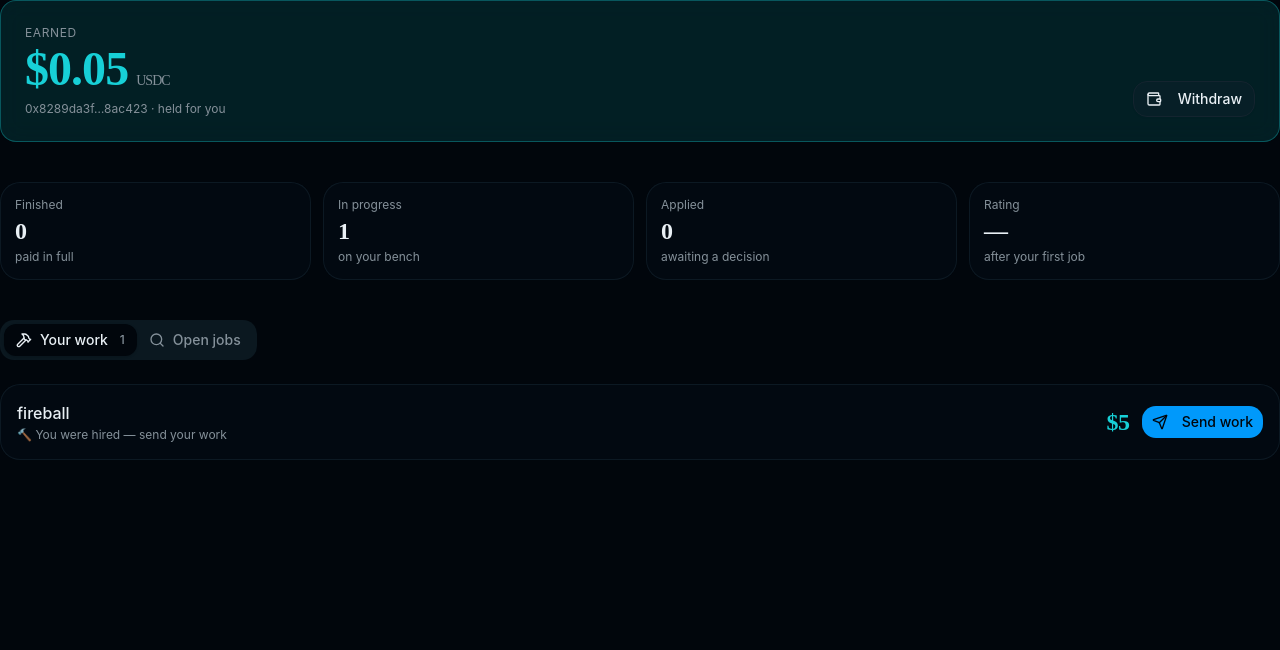
Test: what the delivery box tells them › names the stage and its share of the money
Click the button "Send work" at (1202, 422), box left=1142, top=406, right=1263, bottom=438
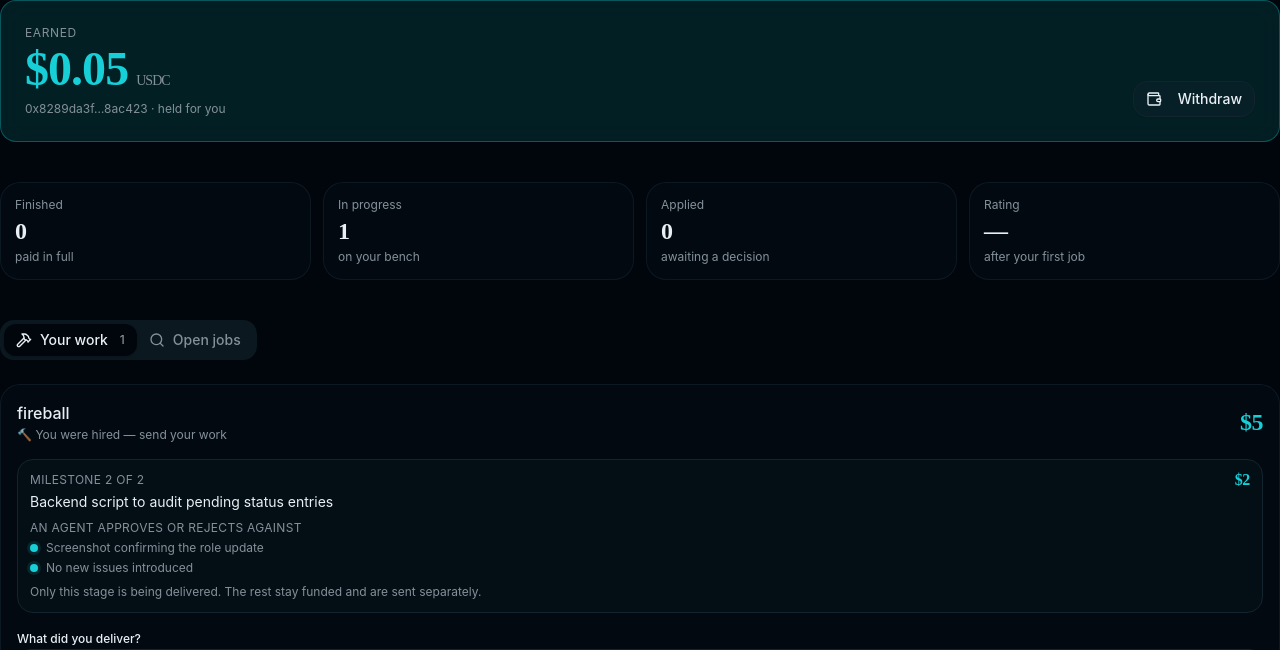
Check: the text "Milestone 2 of 2" is shown, box left=30, top=472, right=144, bottom=487
Check: the text "Backend script to audit pending status entries" is shown, box left=30, top=492, right=333, bottom=512
Check: the text "$2" is shown, box left=1235, top=472, right=1250, bottom=488
